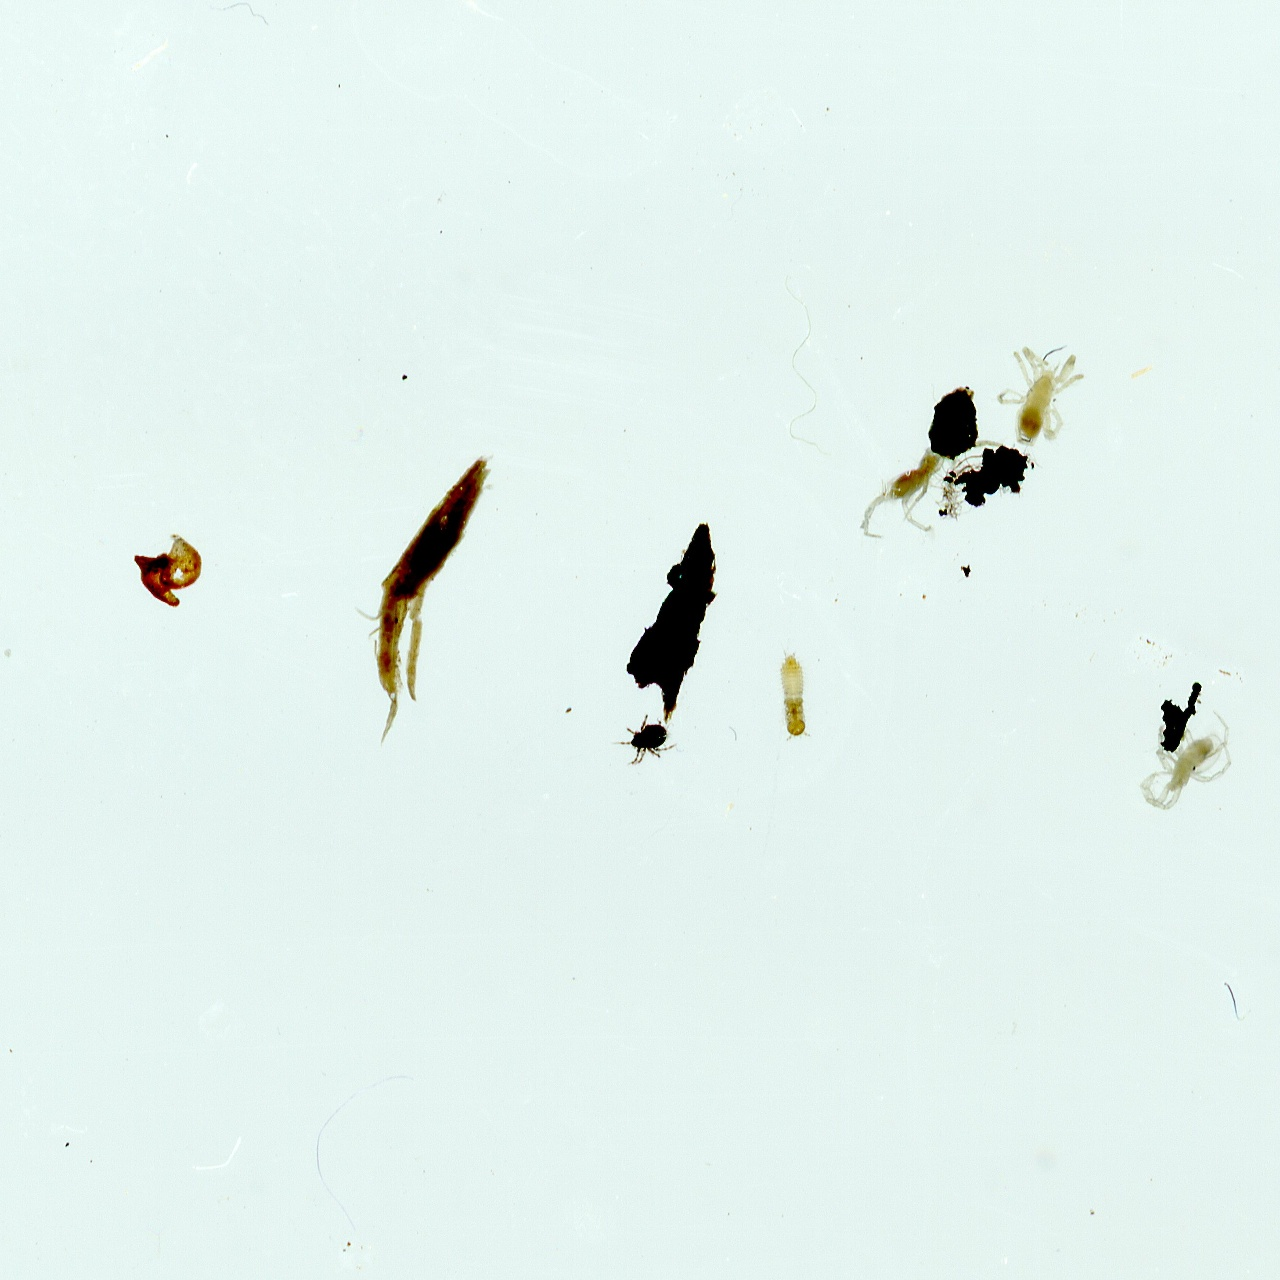arthropod: (846, 402, 1010, 568), (1138, 703, 1253, 832), (995, 342, 1089, 449), (610, 710, 681, 769), (776, 640, 812, 743)
